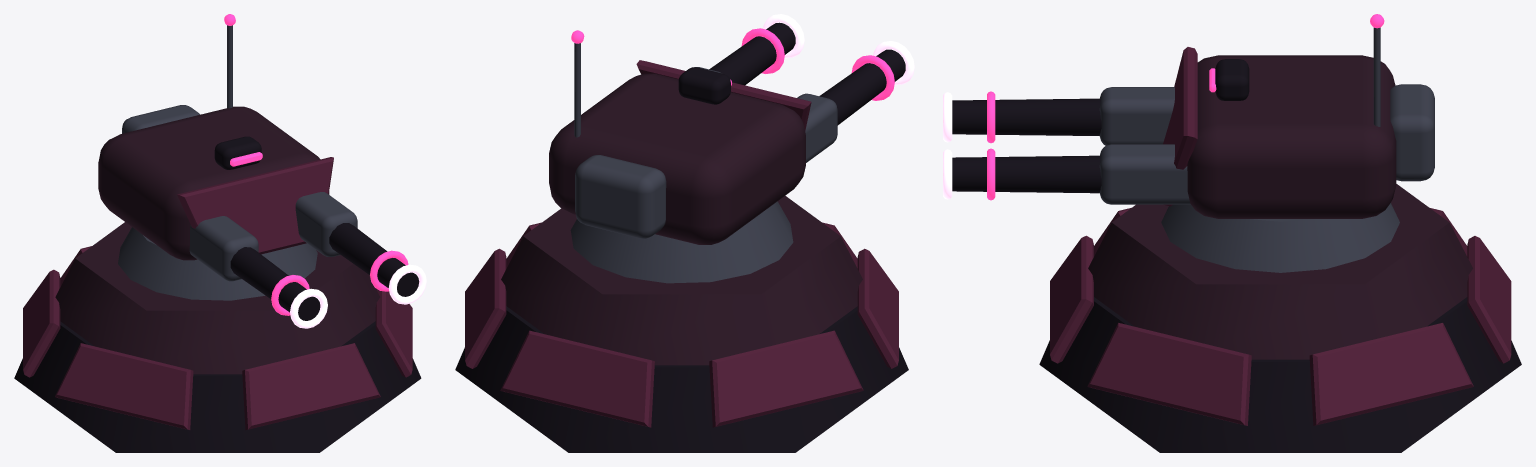
The model's file is turret.glb.
3 renders of one model, left to right at view 1: azimuth 30°, elevation 25°; view 2: azimuth 150°, elevation 25°; view 3: azimuth 270°, elevation 25°, orthographic. The views are drawn at different scales.
Visible parts, largest first — view 1: root:hull, root:plate, root:dark, head:hull, head:plate, head:alloy, root:alloy, head:dark, head:hot, head:glow; view 2: root:hull, root:plate, head:hull, root:dark, root:alloy, head:alloy, head:dark, head:plate, head:glow, head:hot; view 3: root:hull, head:hull, root:plate, root:dark, head:alloy, head:dark, root:alloy, head:plate, head:glow, head:hot.
Boxes of the visible parts, <box> form: root:hull: <box>55,222,380,374</box>; root:plate: <box>23,246,412,430</box>; root:dark: <box>14,321,421,452</box>; head:hull: <box>98,106,329,260</box>; head:plate: <box>177,157,333,254</box>; head:alloy: <box>122,25,357,281</box>; root:alloy: <box>118,227,317,300</box>; head:dark: <box>214,136,419,320</box>; head:hot: <box>290,264,426,328</box>; head:glow: <box>224,14,408,315</box>; root:hull: <box>501,195,862,365</box>; root:plate: <box>465,222,898,427</box>; head:hull: <box>549,73,805,244</box>; root:dark: <box>455,306,908,452</box>; root:alloy: <box>570,201,793,283</box>; head:alloy: <box>574,43,837,238</box>; head:dark: <box>678,22,905,125</box>; head:plate: <box>636,60,811,131</box>; head:glow: <box>571,28,894,100</box>; head:hot: <box>763,14,914,85</box>; root:hull: <box>1088,184,1472,359</box>; head:hull: <box>1187,55,1396,218</box>; root:plate: <box>1050,208,1511,425</box>; root:dark: <box>1039,297,1521,452</box>; head:alloy: <box>1099,27,1434,204</box>; head:dark: <box>952,59,1249,193</box>; root:alloy: <box>1161,203,1399,272</box>; head:plate: <box>1163,47,1197,206</box>; head:glow: <box>987,14,1384,200</box>; head:hot: <box>943,92,952,199</box>.
Size of the model in its own units: 2.02 by 1.74 by 2.4.
